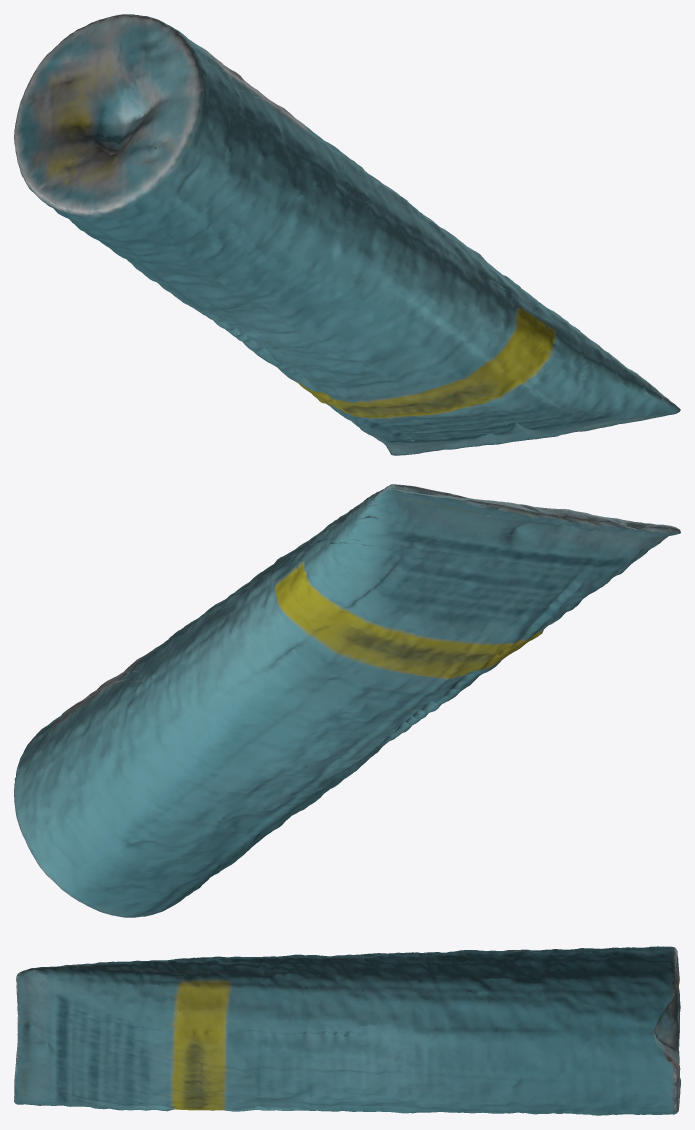
The model's file is oil.glb.
3 views of the same model, one above another, from view 1: azimuth 30°, elevation 25°; view 2: azimuth 150°, elevation 25°; view 3: azimuth 270°, elevation 25° (orthographic). The views are drawn at different scales.
Bounding box in the file's own units: 0.3882 × 0.2519 × 0.9999.
